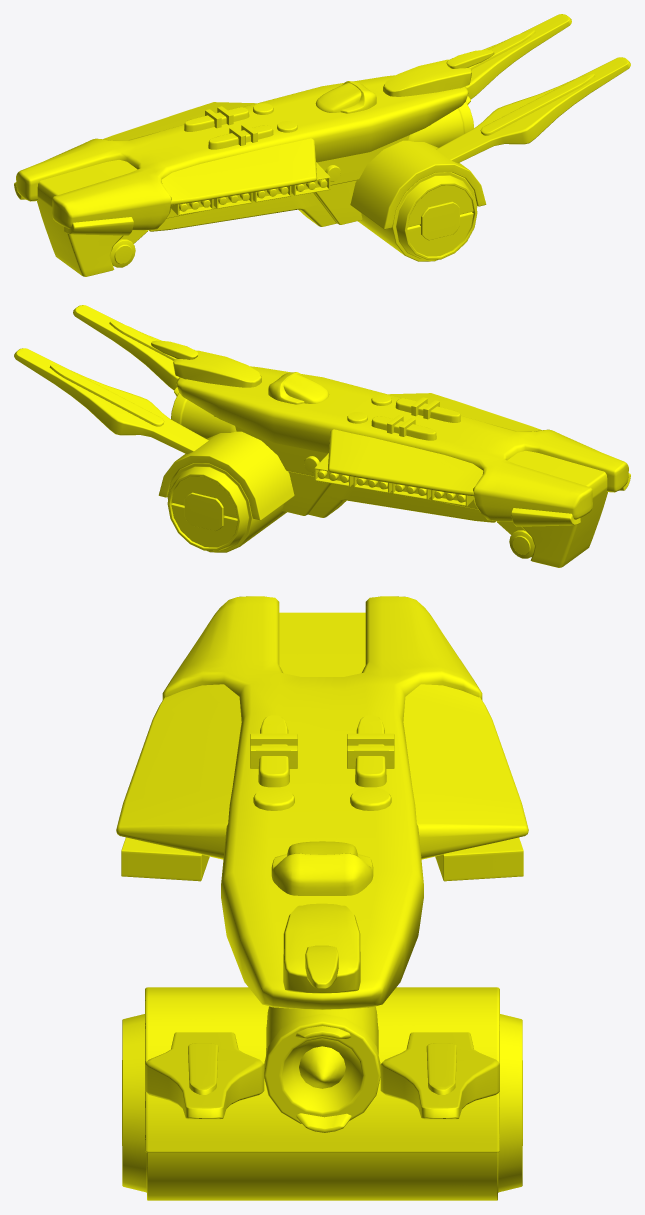
File: corvette_04.gltf
3 views of the same model, one above another, from view 1: azimuth 30°, elevation 25°; view 2: azimuth 150°, elevation 25°; view 3: azimuth 270°, elevation 25° (orthographic). The views are drawn at different scales.
Parts seen in each view (by area): view 1: Corvette_04; view 2: Corvette_04; view 3: Corvette_04.
Part boxes in pixels (x1,y1,x2,y2): Corvette_04: (14,14,630,276); Corvette_04: (14,305,630,567); Corvette_04: (116,596,528,1200).
Size of the model in its own units: 35.92 by 9.51 by 11.47.
1 material, 1 textured.
